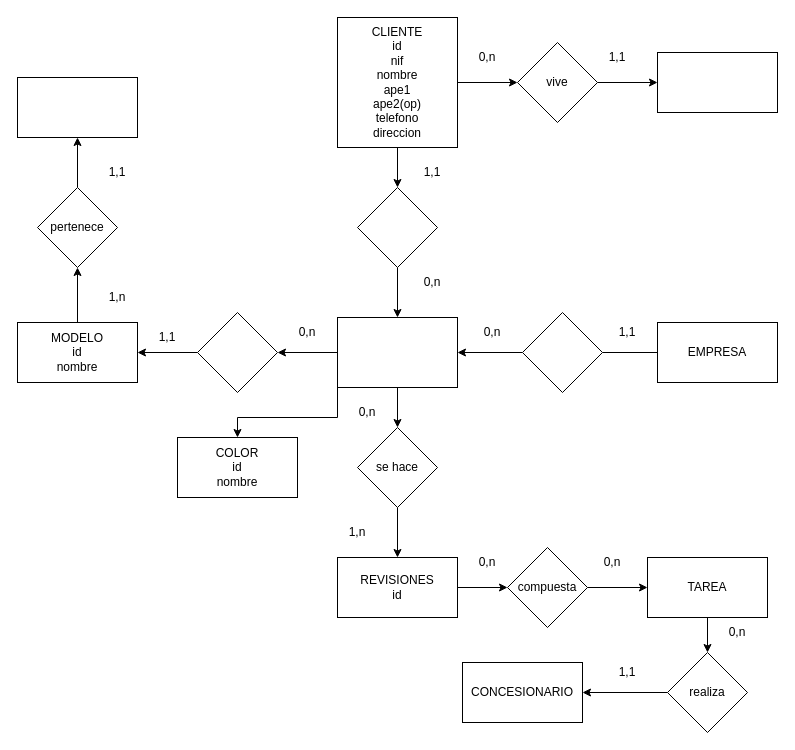
This 795x750 diagram has some shape labels left out. Each missing label, with the centre of its shape:
CIUDAD id nombre: the point at 717,82
COCHES matricula precio: the point at 397,352
compra: the point at 397,227
MARCA id nombre: the point at 77,107
tiene: the point at 237,352
vende: the point at 562,352
